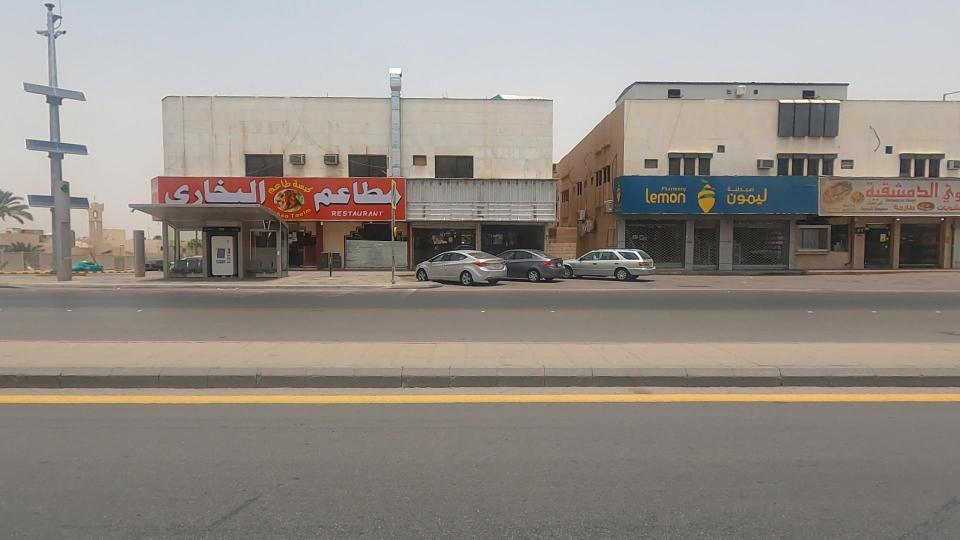BAD_BILLBOARD: (328, 145, 629, 252)
